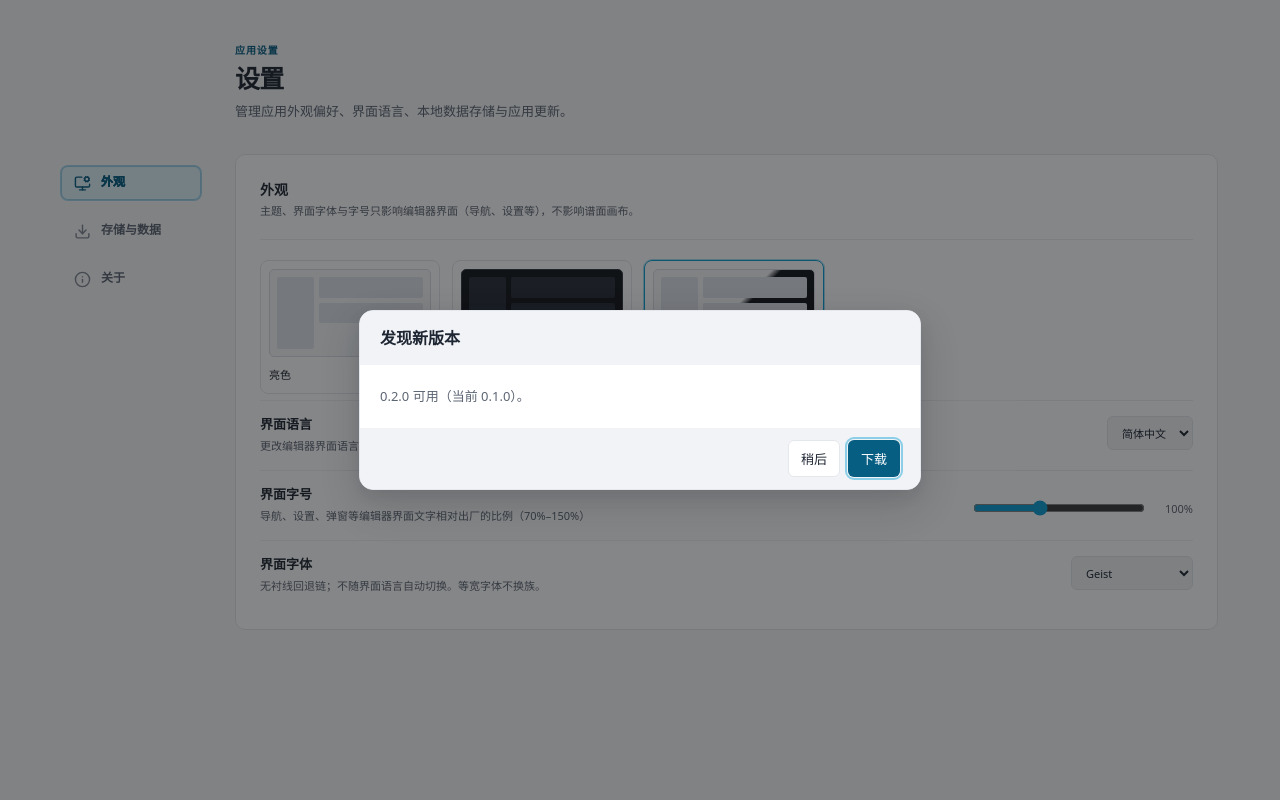
Scenario: ADR-0021 · 设置页关于 › 弹窗点下载后包就绪：立即重启留在弹窗和关于，不先关掉再找按钮
Click the button "下载": coordinates (874, 459) [848,440,900,477]
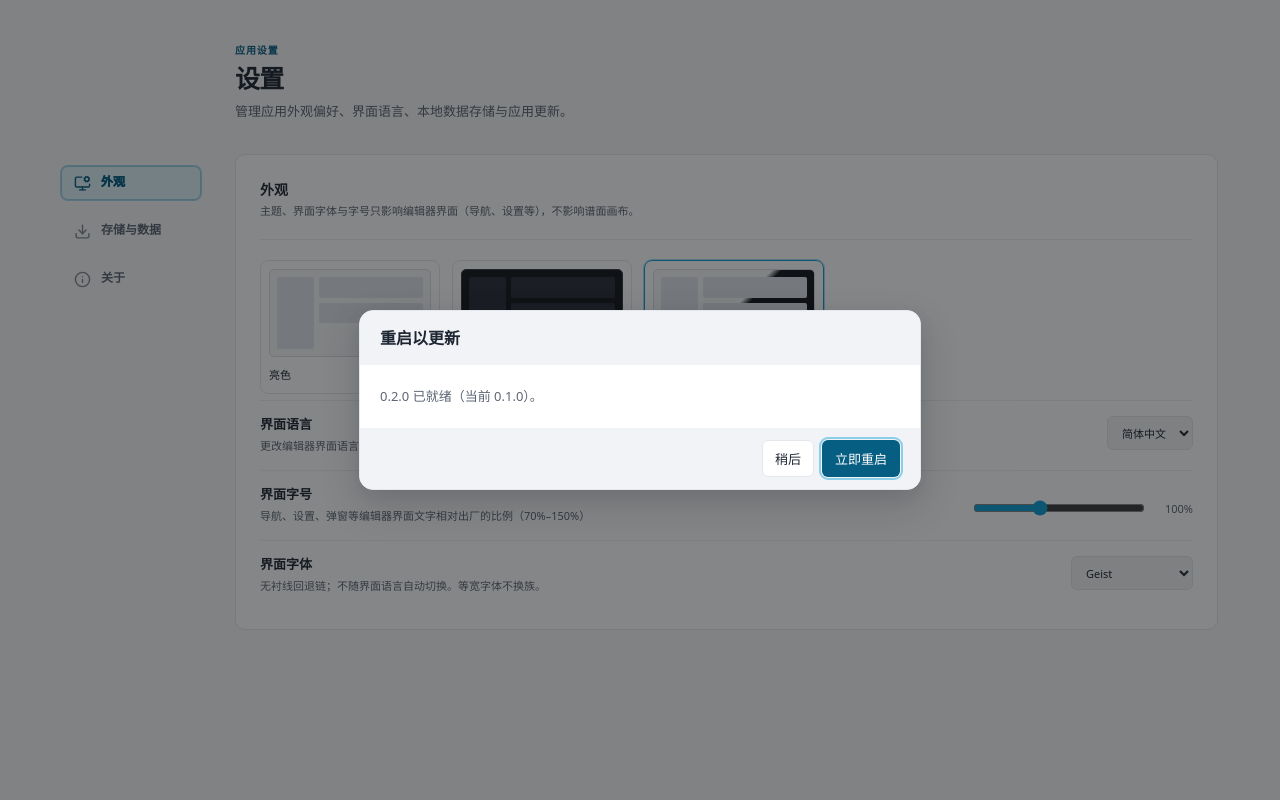
Expected: the button "立即重启" is shown, [822,440,900,477]
Expected: the heading "重启以更新" is shown, [380,327,460,349]
Click the button "稍后": coordinates (788, 459) [762,440,814,477]
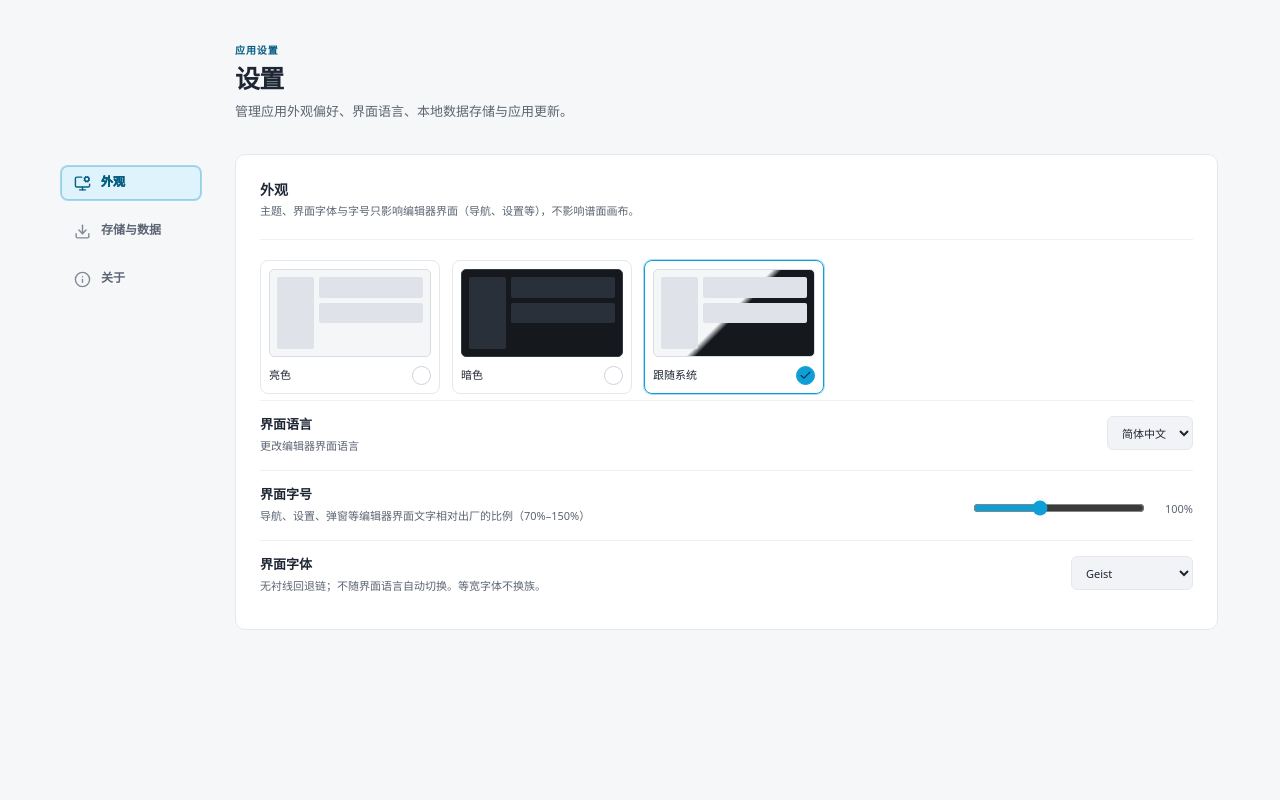
Click the button "关于": coordinates (131, 278) [61,262,201,296]
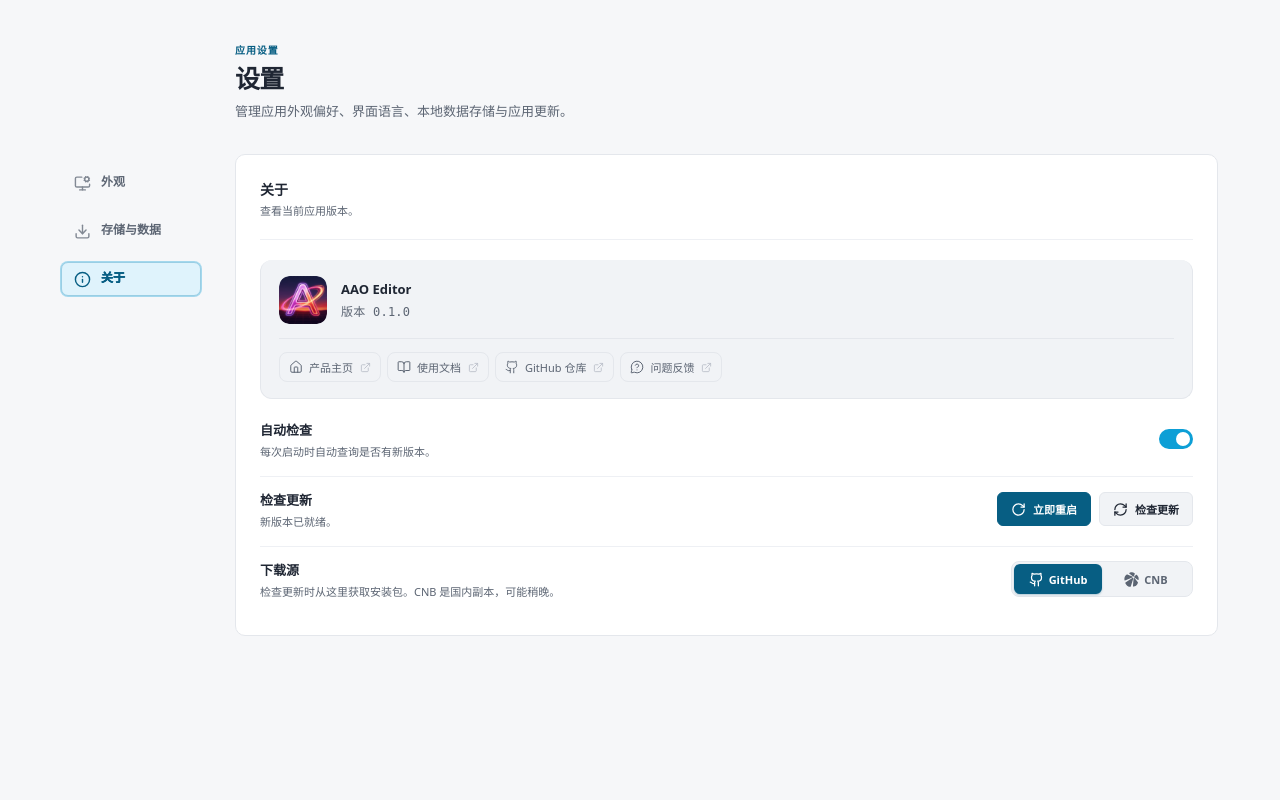
Expected: the button "检查更新" is shown, [1099,492,1193,526]
Expected: the button "立即重启" is shown, [997,492,1091,526]
